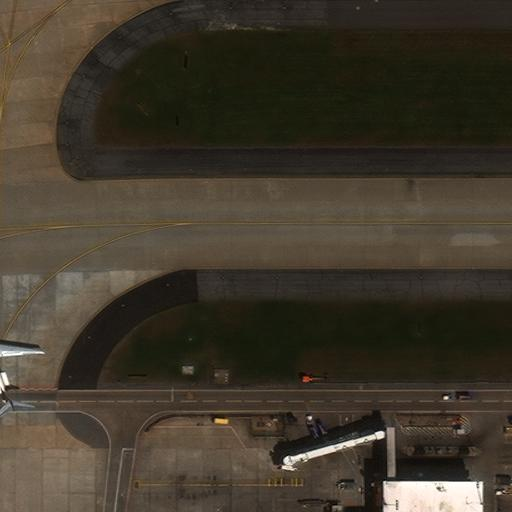Medium Civil Transport: (0, 318, 38, 409)
